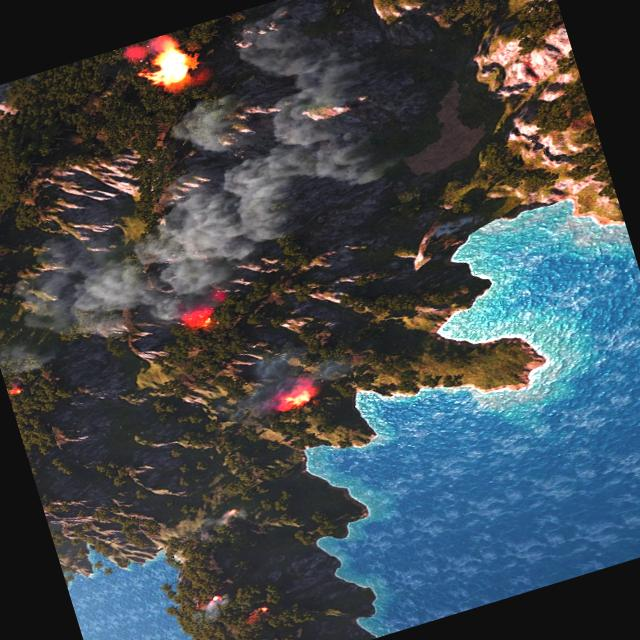fire: (122, 27, 198, 94), (275, 376, 320, 412), (180, 302, 220, 334), (223, 504, 240, 516), (10, 384, 22, 396), (208, 592, 222, 602), (258, 603, 270, 612)
smoke: (0, 0, 419, 375), (216, 330, 362, 428), (190, 497, 251, 538), (196, 590, 234, 621)
